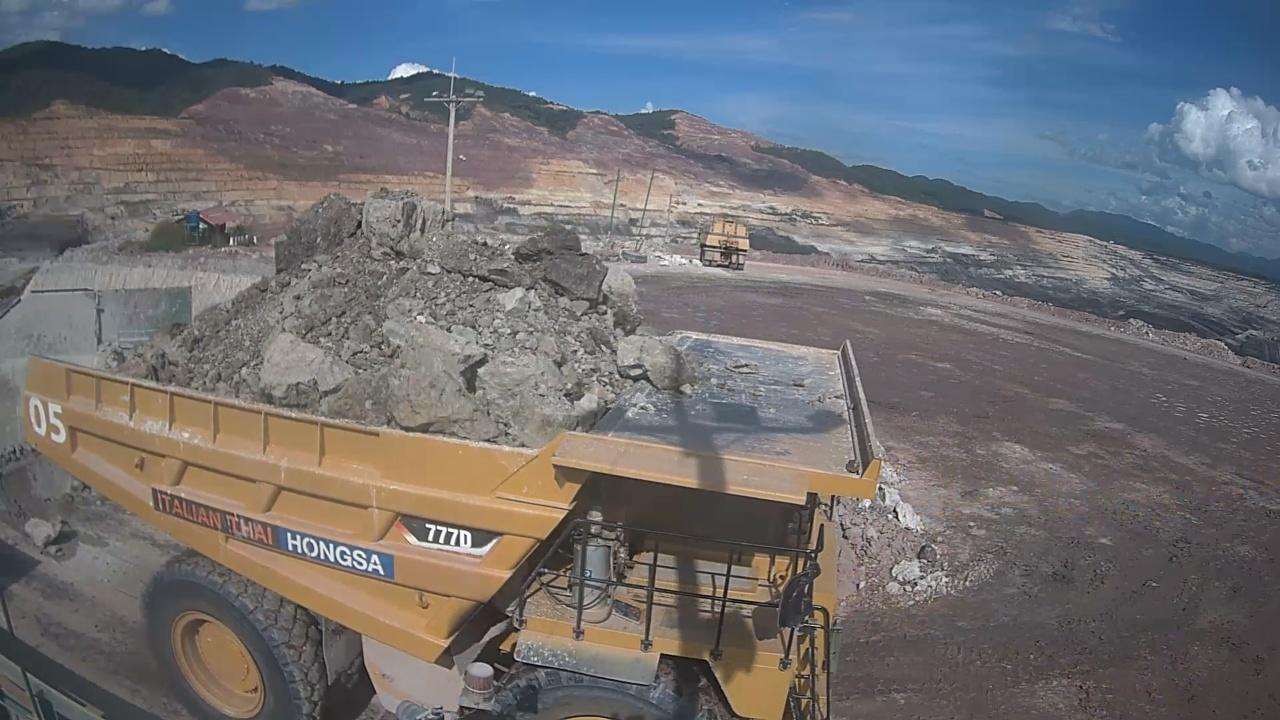company: (147, 486, 392, 587)
full_load: (201, 190, 690, 427)
mining_truck: (19, 167, 896, 719)
tail_number: (27, 392, 74, 446)
truck_size: (391, 508, 502, 562)
